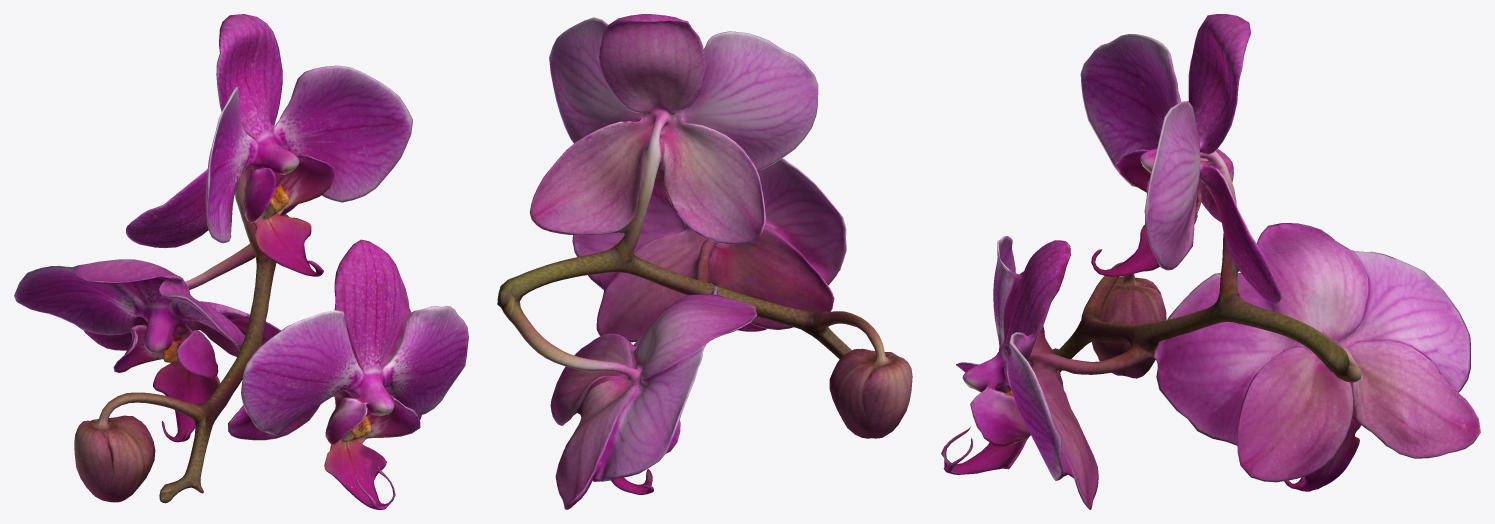
Rendered from orchid.glb.
3 views of the same model, side by side, from view 1: azimuth 30°, elevation 25°; view 2: azimuth 150°, elevation 25°; view 3: azimuth 270°, elevation 25° (orthographic). The views are drawn at different scales.
Parts seen in each view (by area): view 1: Object_2; view 2: Object_2; view 3: Object_2.
Part boxes in pixels (x1,y1,x2,y2): Object_2: (14,14,468,509); Object_2: (497,14,912,509); Object_2: (941,14,1480,509).
Bounding box in the file's own units: 0.312 × 0.3657 × 0.3698.
Materials: 1 (1 with a texture image).
